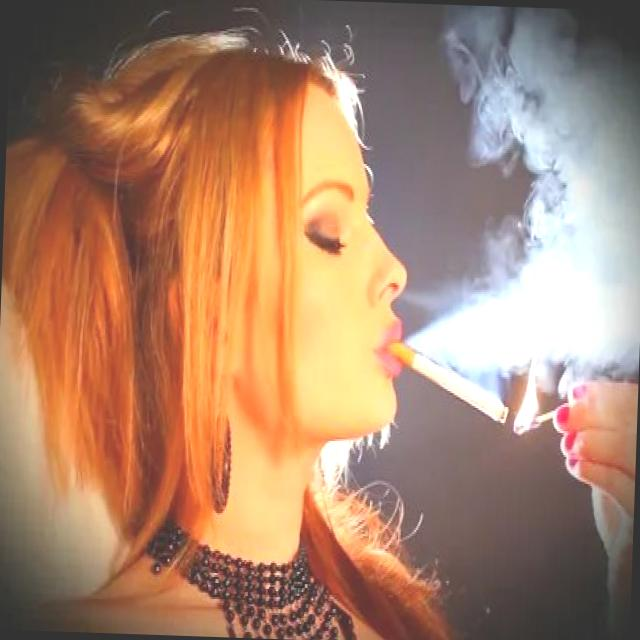smoke: (380, 330, 510, 432)
